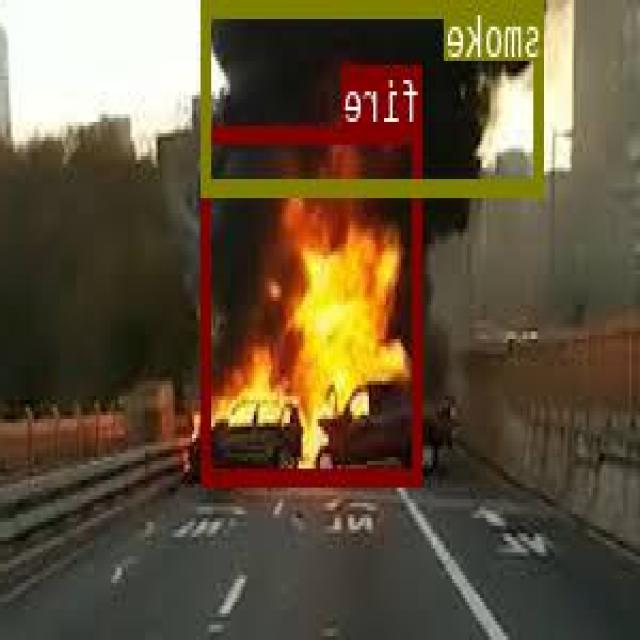fire: (203, 123, 423, 482)
smoke: (205, 0, 547, 194)
